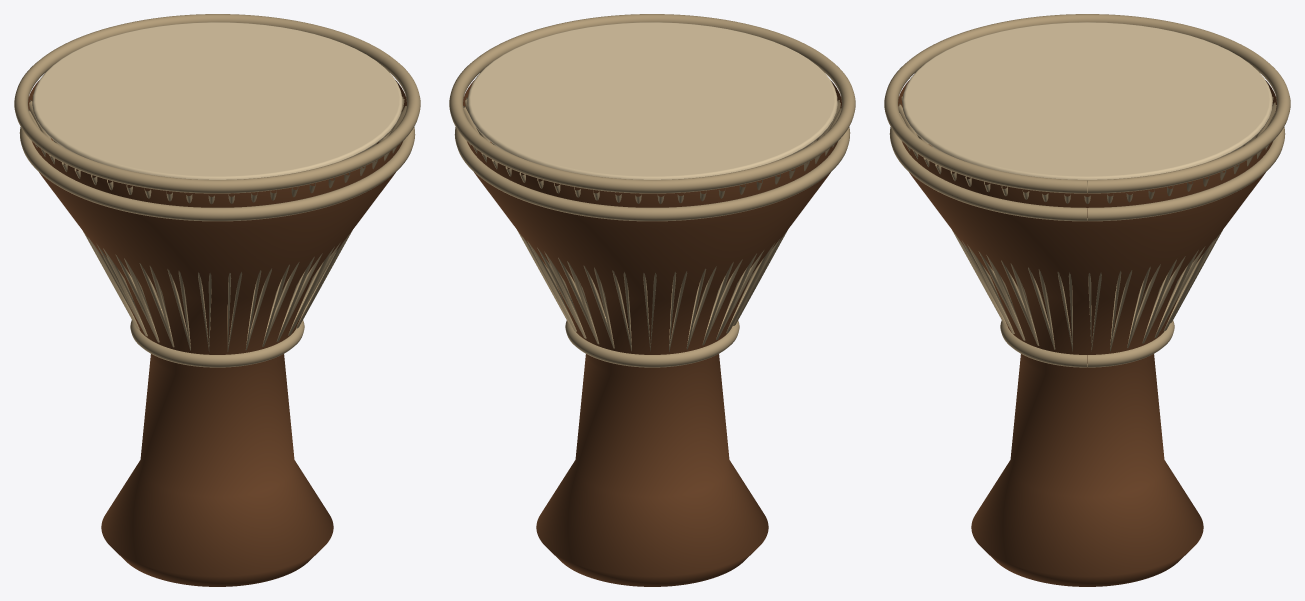
File: djembe-drum.glb
3 renders of one model, left to right at view 1: azimuth 30°, elevation 25°; view 2: azimuth 150°, elevation 25°; view 3: azimuth 270°, elevation 25°, orthographic.
Visible parts, largest first — view 1: Goblet drum body, Drum head, Rope ring.001, Rope ring, Rope ring.002, Tension cord.015, Tension cord.022, Tension cord.016, Tension cord.021, Tension cord.014, Tension cord.023, Tension cord.017 (+2 smaller); view 2: Goblet drum body, Drum head, Rope ring.001, Rope ring, Rope ring.002, Tension cord.006, Tension cord.012, Tension cord.013, Tension cord.005, Tension cord.007, Tension cord.011, Tension cord.014 (+3 smaller); view 3: Goblet drum body, Drum head, Rope ring.001, Rope ring, Rope ring.002, Tension cord.025, Tension cord.003, Tension cord.024, Tension cord.004, Tension cord.002, Tension cord.023, Tension cord.026 (+2 smaller).
Boxes of the visible parts, x1,y1,x2,y2 form: Goblet drum body: (28,80,406,586); Drum head: (32,22,402,179); Rope ring.001: (14,14,420,193); Rope ring: (19,112,415,221); Rope ring.002: (130,320,304,367); Tension cord.015: (74,168,159,342); Tension cord.022: (276,166,365,341); Tension cord.016: (107,179,174,347); Tension cord.021: (262,177,334,346); Tension cord.014: (49,155,147,336); Tension cord.023: (288,152,389,335); Tension cord.017: (144,188,190,350); Goblet drum body: (463,80,841,586); Drum head: (467,22,837,179); Rope ring.001: (449,14,855,193); Rope ring: (454,127,850,221); Rope ring.002: (565,320,739,367); Tension cord.006: (519,172,599,344); Tension cord.012: (702,174,780,345); Tension cord.013: (716,161,809,339); Tension cord.005: (492,159,586,338); Tension cord.007: (554,183,614,348); Tension cord.011: (686,184,745,349); Tension cord.014: (726,148,829,333); Goblet drum body: (898,80,1276,586); Drum head: (902,22,1272,179); Rope ring.001: (884,14,1290,193); Rope ring: (889,127,1285,221); Rope ring.002: (1000,320,1174,367); Tension cord.025: (965,176,1039,345); Tension cord.003: (1142,170,1226,343); Tension cord.024: (935,164,1025,340); Tension cord.004: (1154,157,1252,337); Tension cord.002: (1127,181,1193,348); Tension cord.023: (913,150,1014,333); Tension cord.026: (1001,186,1055,349).
Bounding box in the file's own units: 1.47 × 1.79 × 1.47.
